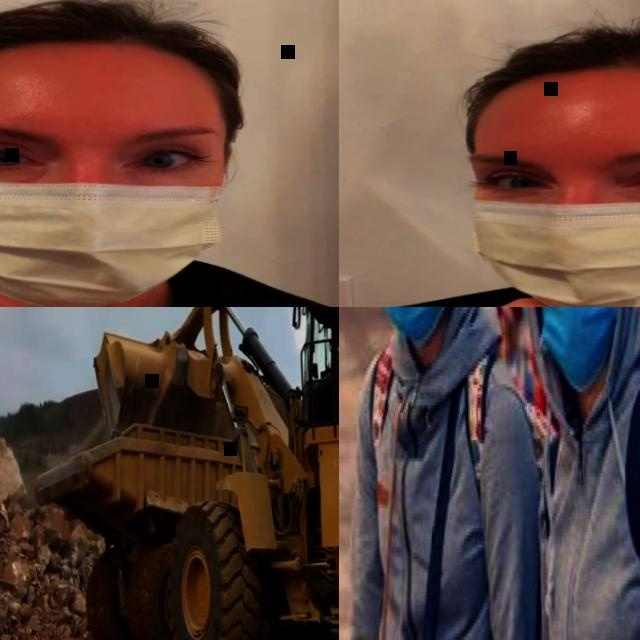Mask: (0, 150, 239, 307), (475, 148, 640, 307), (530, 307, 621, 390), (374, 307, 448, 349)
NO-Hardhat: (0, 0, 245, 106), (466, 15, 640, 115)
NO-Safety Vest: (375, 357, 512, 640), (539, 376, 640, 640)
Person: (0, 0, 339, 307), (339, 10, 640, 307), (339, 307, 543, 640), (516, 307, 640, 640)
machinery: (92, 307, 339, 640), (30, 410, 260, 640)
